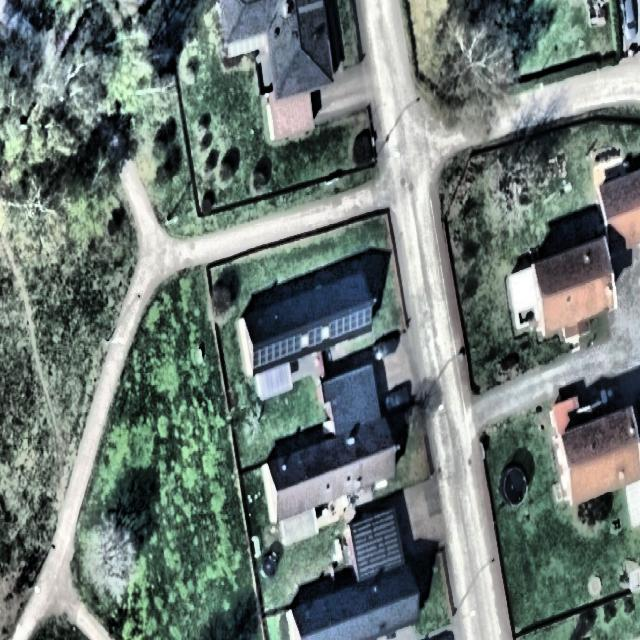roof_pv: (254, 329, 303, 368), (328, 304, 375, 336), (309, 326, 322, 345)
